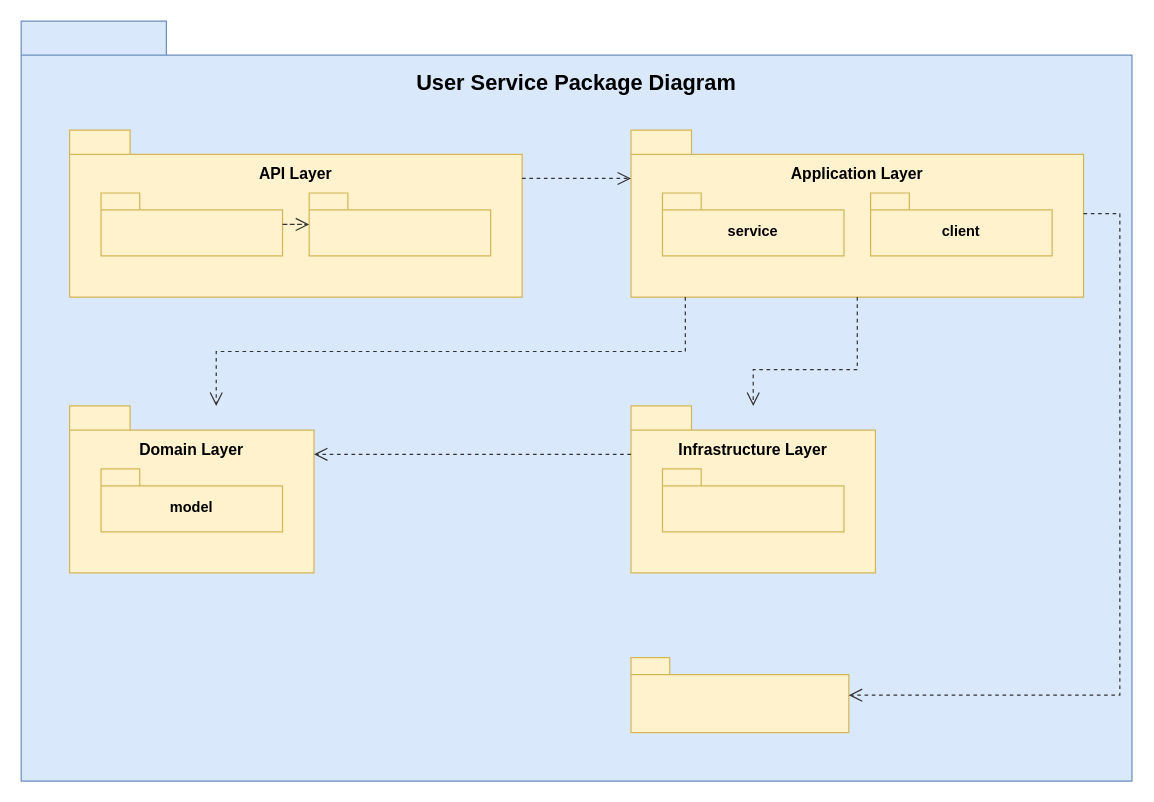
This 1154x802 diagram has some shape labels left out. Each missing label, with the centre of its shape:
"common-lib" belongs at (x=739, y=694).
"controller" belongs at (x=191, y=224).
"dto" belongs at (x=399, y=224).
"repository" belongs at (x=752, y=500).
